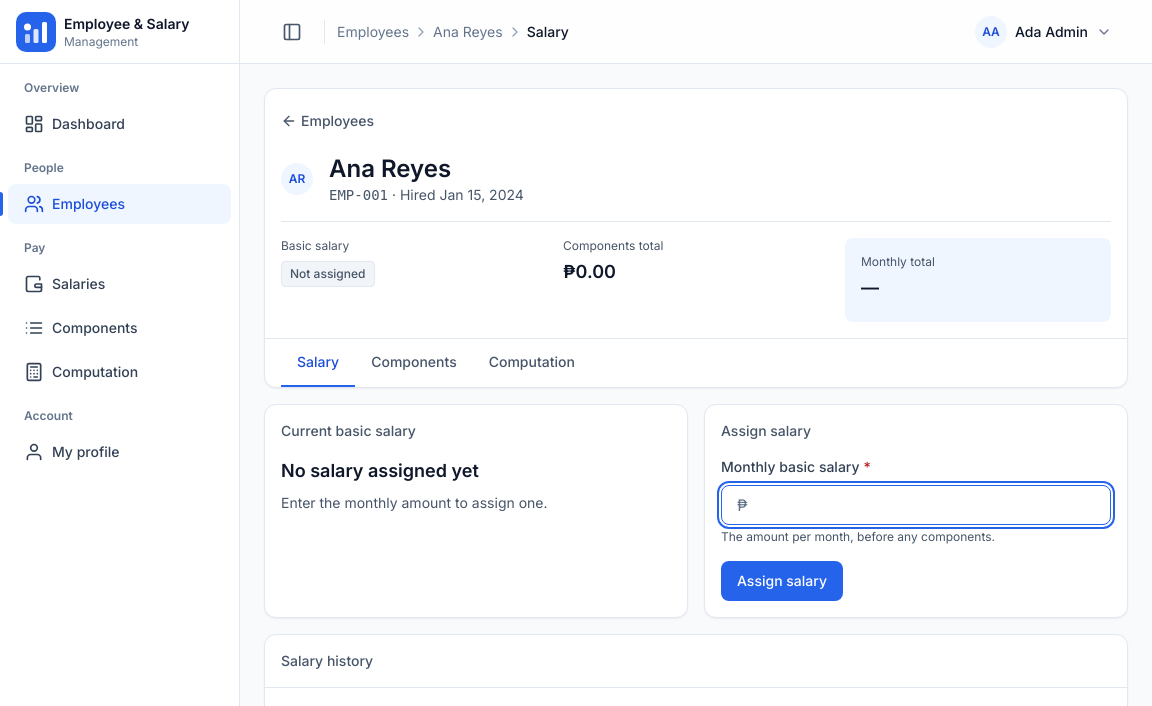
Test: Salary page › an employee with no salary › assigns the first salary, shows it, and sends it as a two-decimal string
The image size is (1152, 706).
expect the text "No salary assigned yet" is shown: met, box [281,460,479,481]
Type "30000.5" into the field labelled "Monthly basic salary*" at (916, 505), box [721,485,1111,525]
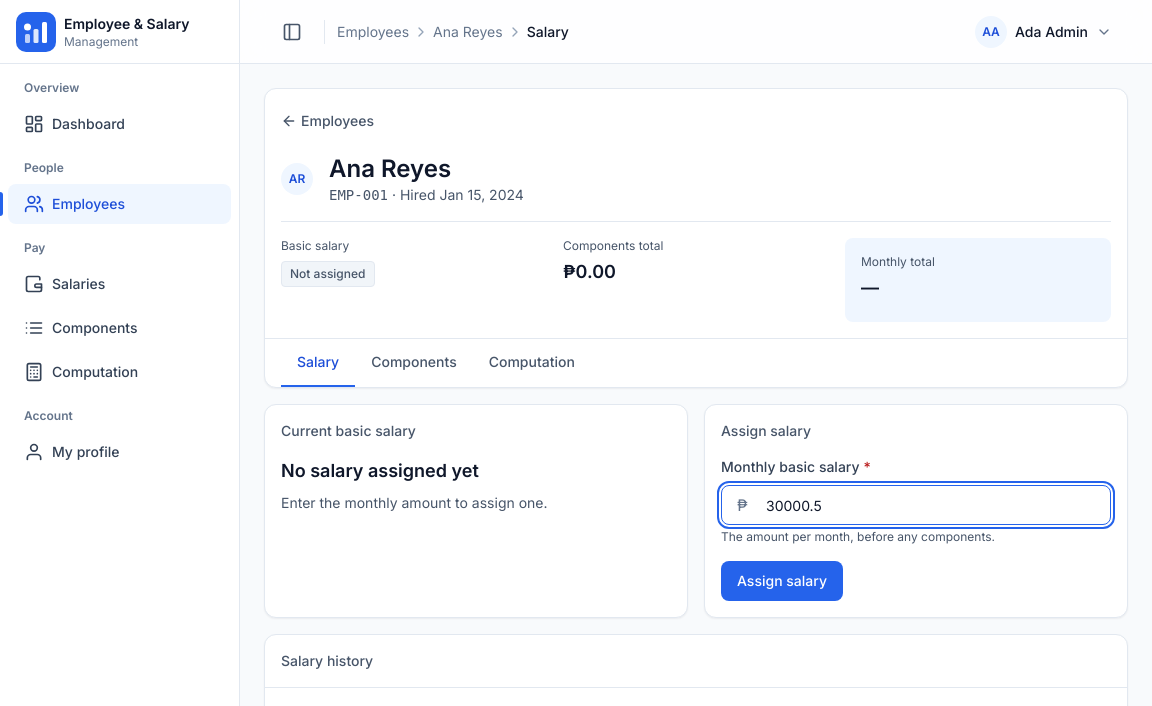
Click the button "Assign salary" at (782, 581), box [721,561,843,601]
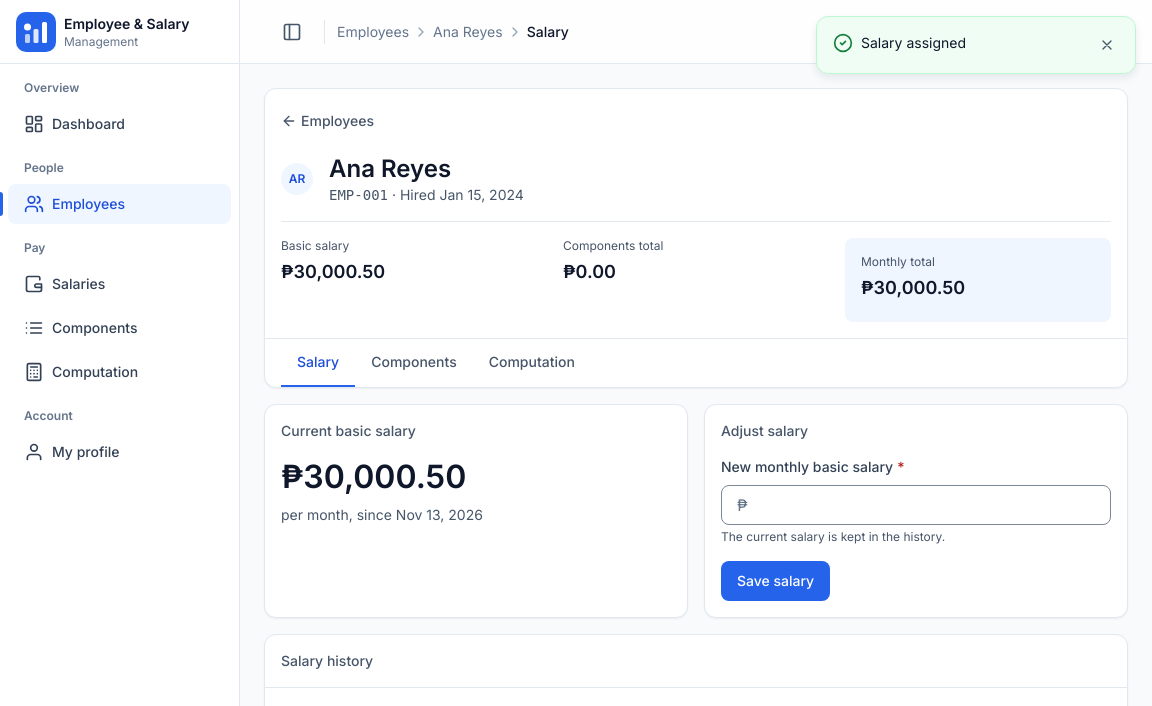
expect the text "₱30,000.50" below "Current basic salary" is shown: met, box [281,457,466,496]
expect the button "Save salary" is shown: met, box [721,561,830,601]
expect the field labelled "New monthly basic salary*" is empty: met, box [721,485,1111,525]
